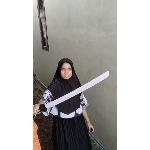Pedang: (33, 70, 113, 116)
